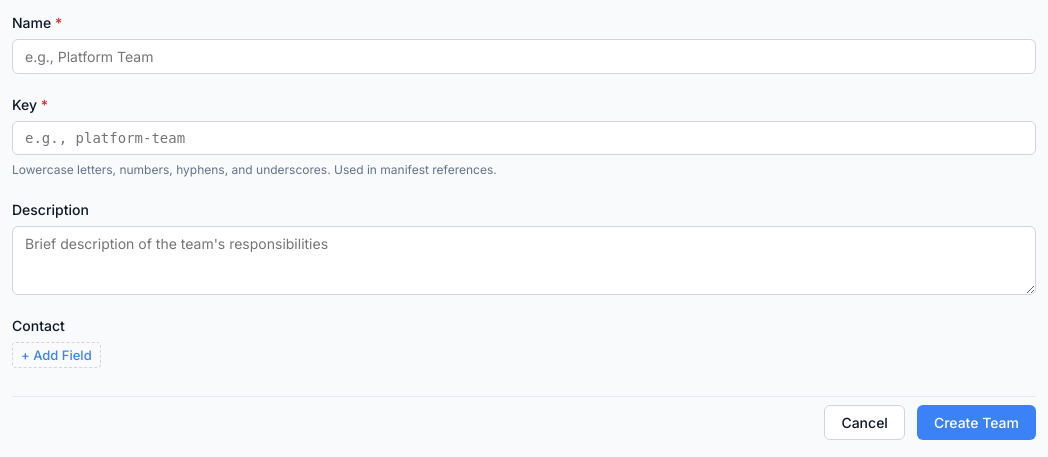
Test: TeamForm › auto-derives key from name in create mode
Type "Platform Team" into the field labelled "Name *" at (524, 56), box [12,39,1036,74]
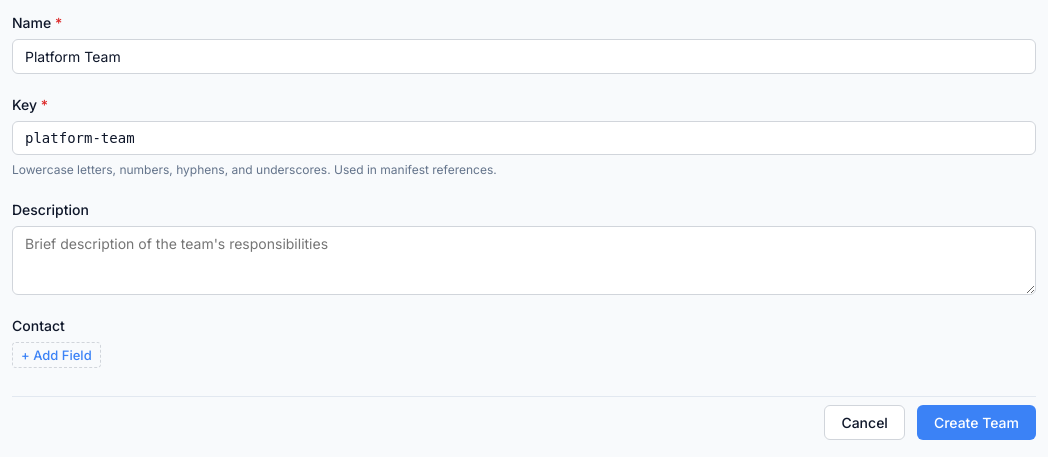
Now the field labelled "Key *" holds "platform-team", box [12,121,1036,155]
